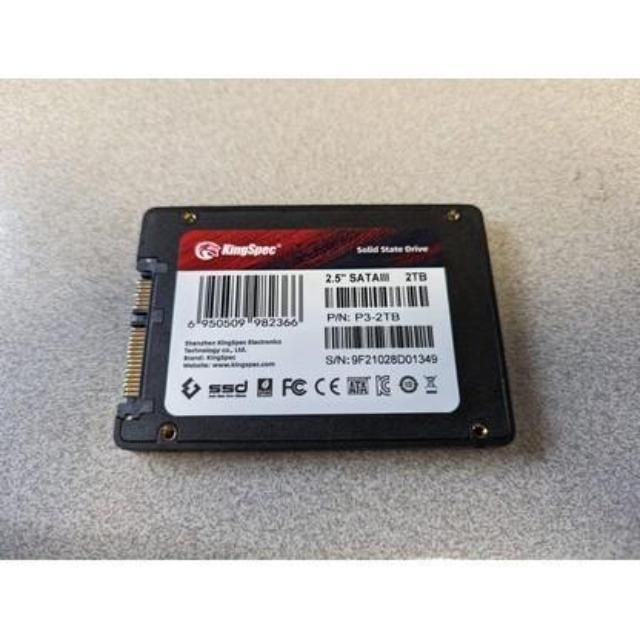DISK: (115, 195, 517, 462)
